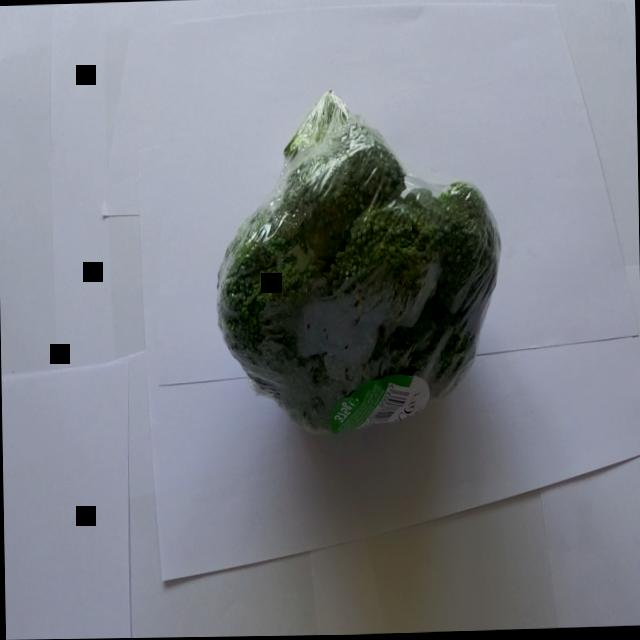Broccoli: (195, 65, 512, 458)
